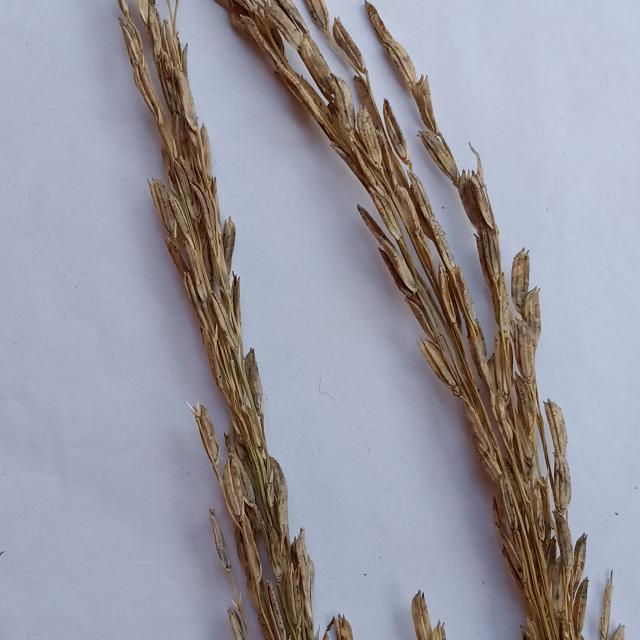Neck_Blast: (223, 0, 578, 635), (121, 8, 310, 640)
